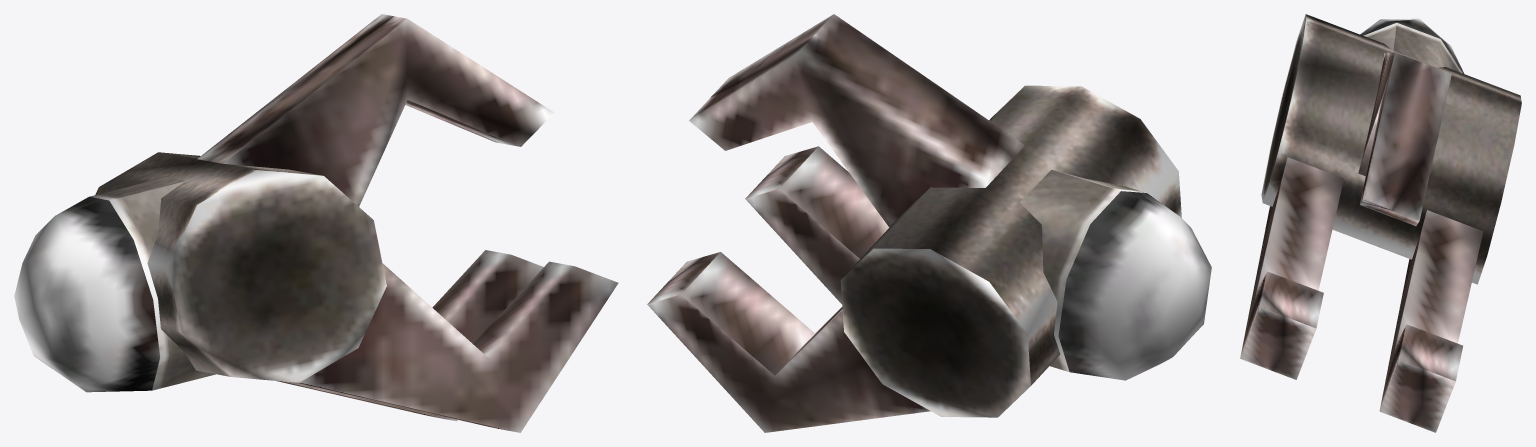
Rendered from Robot01.LeftPalm1.fbx.
The picture shows the model from 3 angles, left to right: view 1: azimuth 30°, elevation 25°; view 2: azimuth 150°, elevation 25°; view 3: azimuth 270°, elevation 25°; orthographic projection. The views are drawn at different scales.
Parts seen in each view (by area): view 1: Robot01.LeftPalm1; view 2: Robot01.LeftPalm1; view 3: Robot01.LeftPalm1.
Part boxes in pixels (x1,y1,x2,y2): Robot01.LeftPalm1: (14, 14, 618, 432); Robot01.LeftPalm1: (647, 14, 1211, 432); Robot01.LeftPalm1: (1240, 14, 1521, 432).
Bounding box in the file's own units: 36.64 × 27.61 × 19.54.
